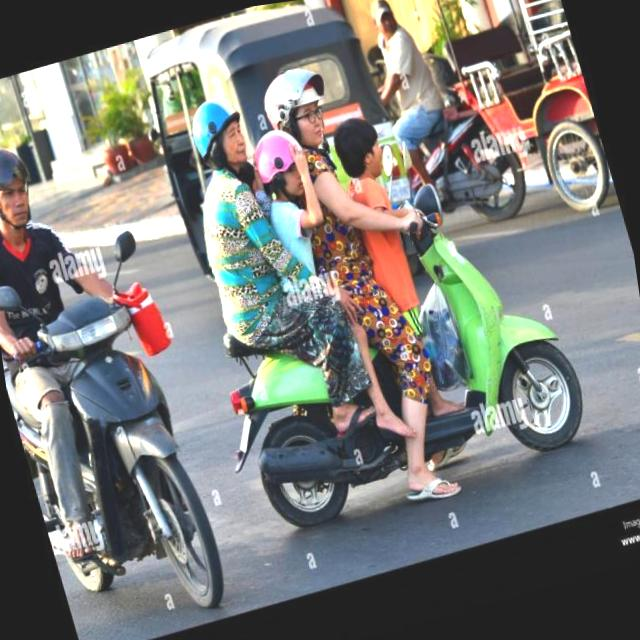motorcycle: (201, 204, 602, 546)
person: (248, 60, 382, 366), (322, 107, 444, 382), (182, 89, 294, 356), (242, 124, 341, 353)
rider_region: (169, 37, 607, 550)
